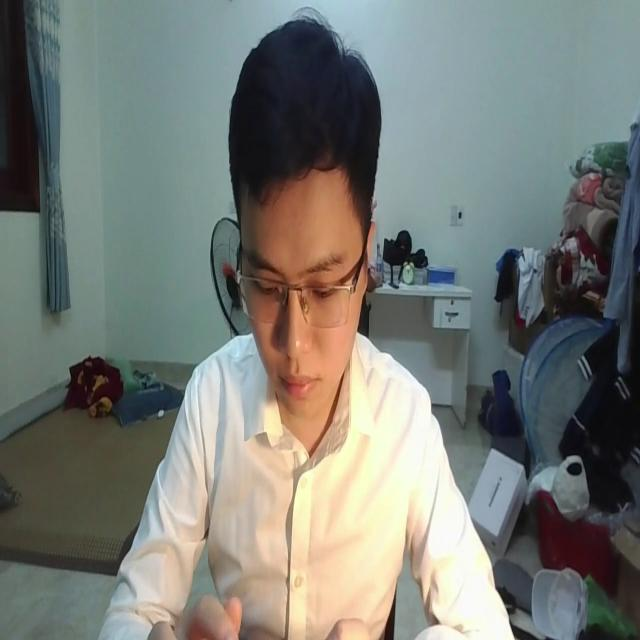student: (104, 33, 504, 640)
